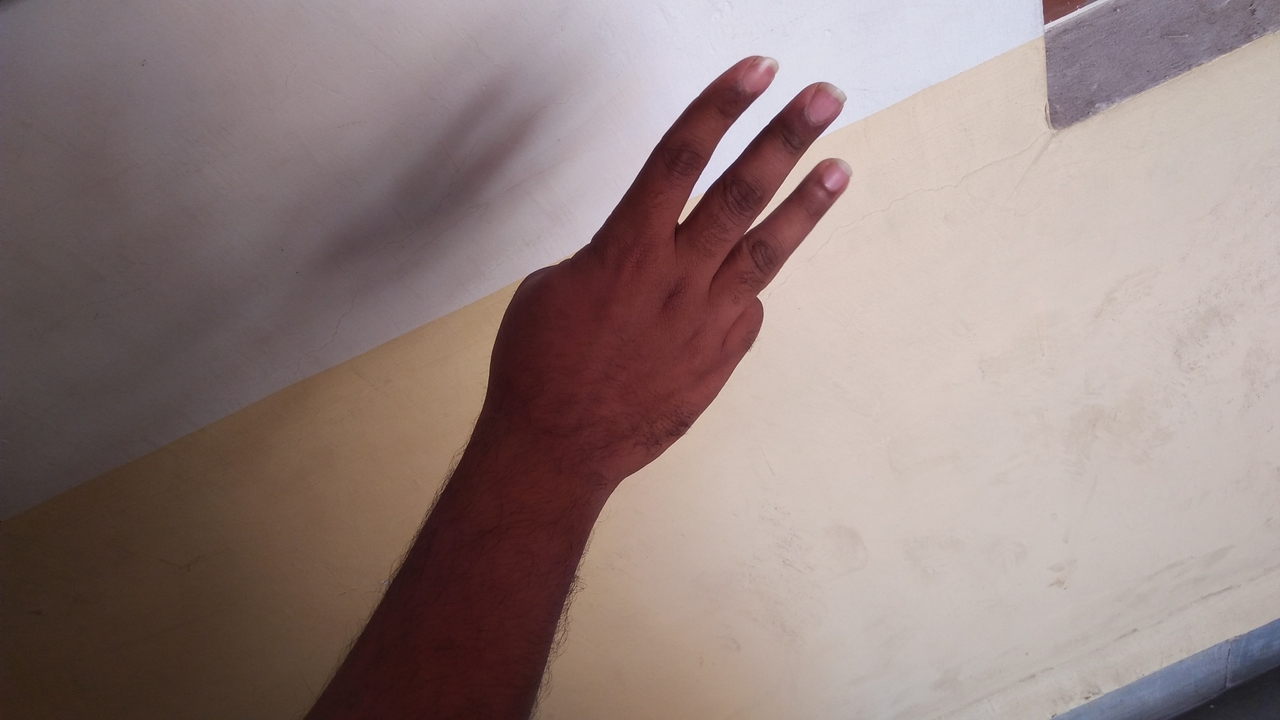fingertip: (790, 144, 862, 204), (782, 72, 858, 126), (716, 48, 786, 104)
